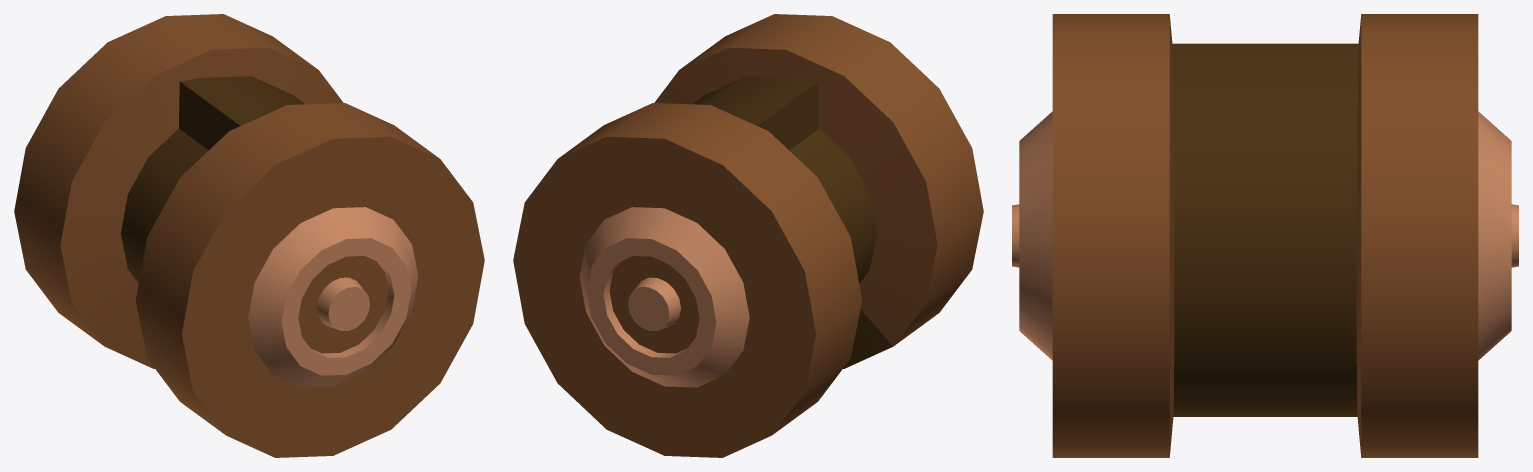
The model's file is Heup Links Achter vering.fbx.
3 renders of one model, left to right at view 1: azimuth 30°, elevation 25°; view 2: azimuth 150°, elevation 25°; view 3: azimuth 270°, elevation 25°, orthographic. The views are drawn at different scales.
Visible parts, largest first — view 1: Scharnier.003; view 2: Scharnier.003; view 3: Scharnier.003.
Boxes of the visible parts, x1=… form: Scharnier.003: x1=14, y1=14, x2=484, y2=457; Scharnier.003: x1=513, y1=14, x2=983, y2=457; Scharnier.003: x1=1012, y1=14, x2=1518, y2=457.
Bounding box in the file's own units: 348 × 348 × 397.
